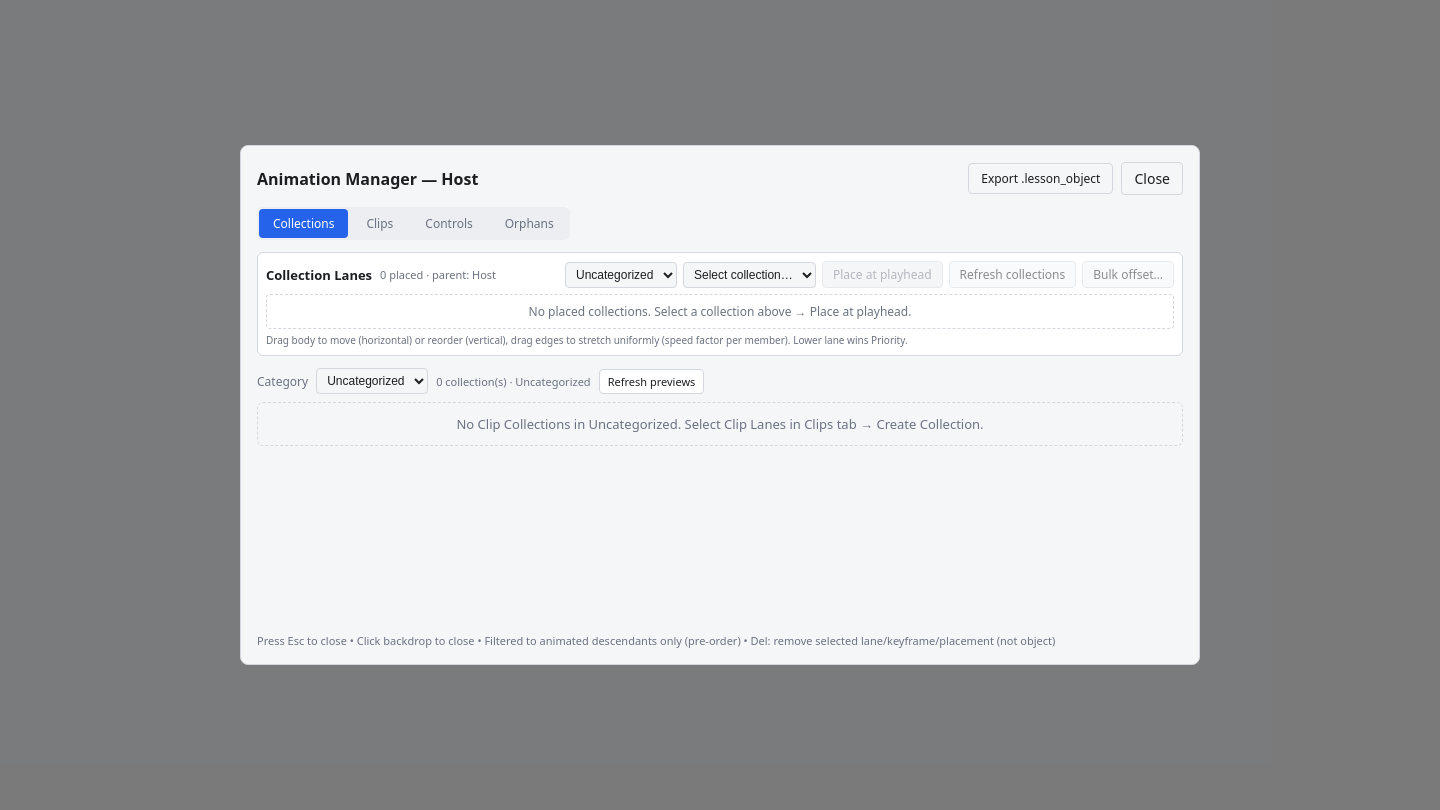
Test case: Clip Blocks Authoring UI — per-timeline lanes, drill-in geometry & Priority drag › Drill-in Clip Blocks render at left=start*pps width=(end-start)*pps and support drag move (preserve width) and edge resize (span≥1e-6 guard, overlap allowed)
Step 1. Click the tab with test id "manager-tab-controls" → [449, 224], box top-left (411, 209), bottom-right (487, 238)
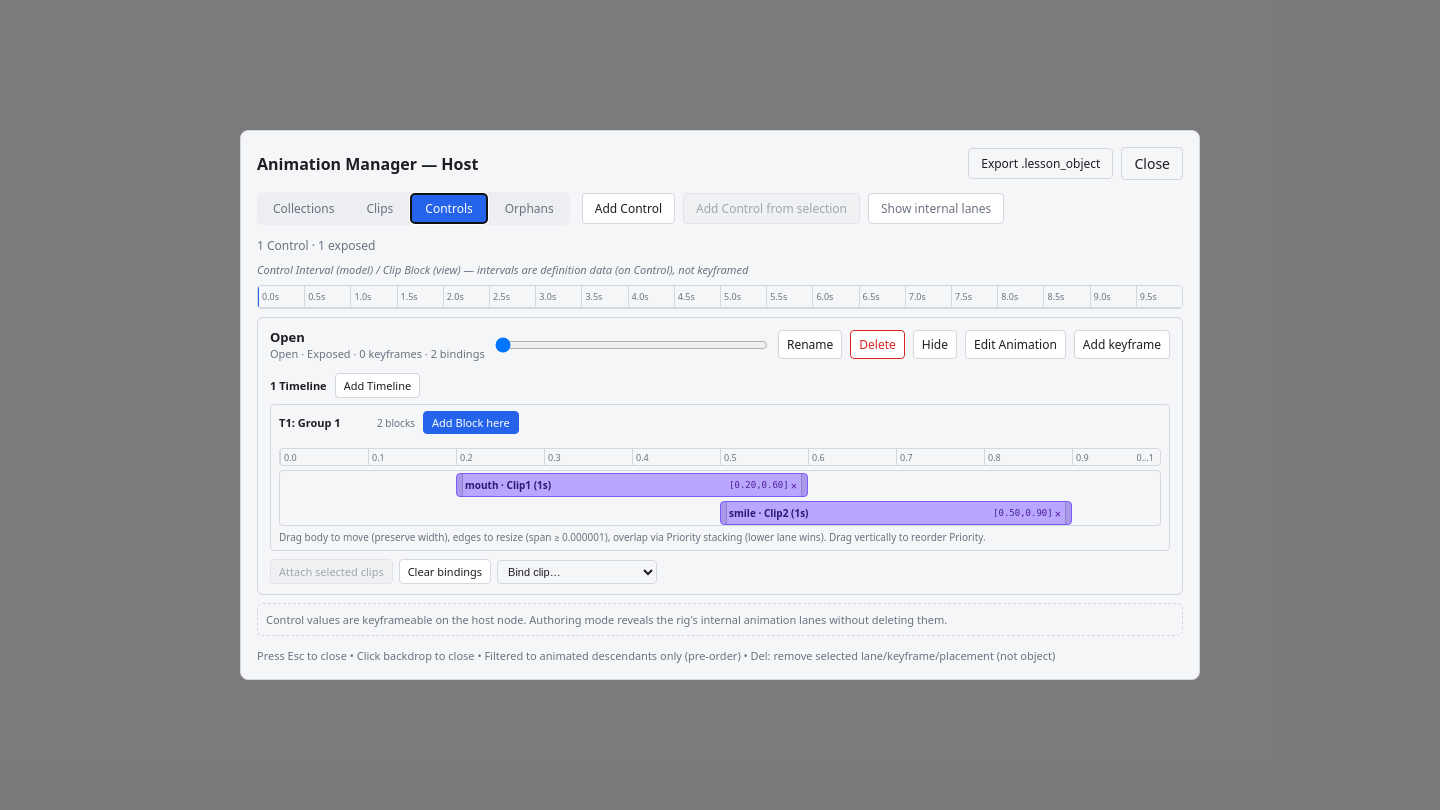
Open drill-in
Step 2. Click the button with test id "manager-control-edit-Open" → [1015, 344], box top-left (965, 330), bottom-right (1066, 359)
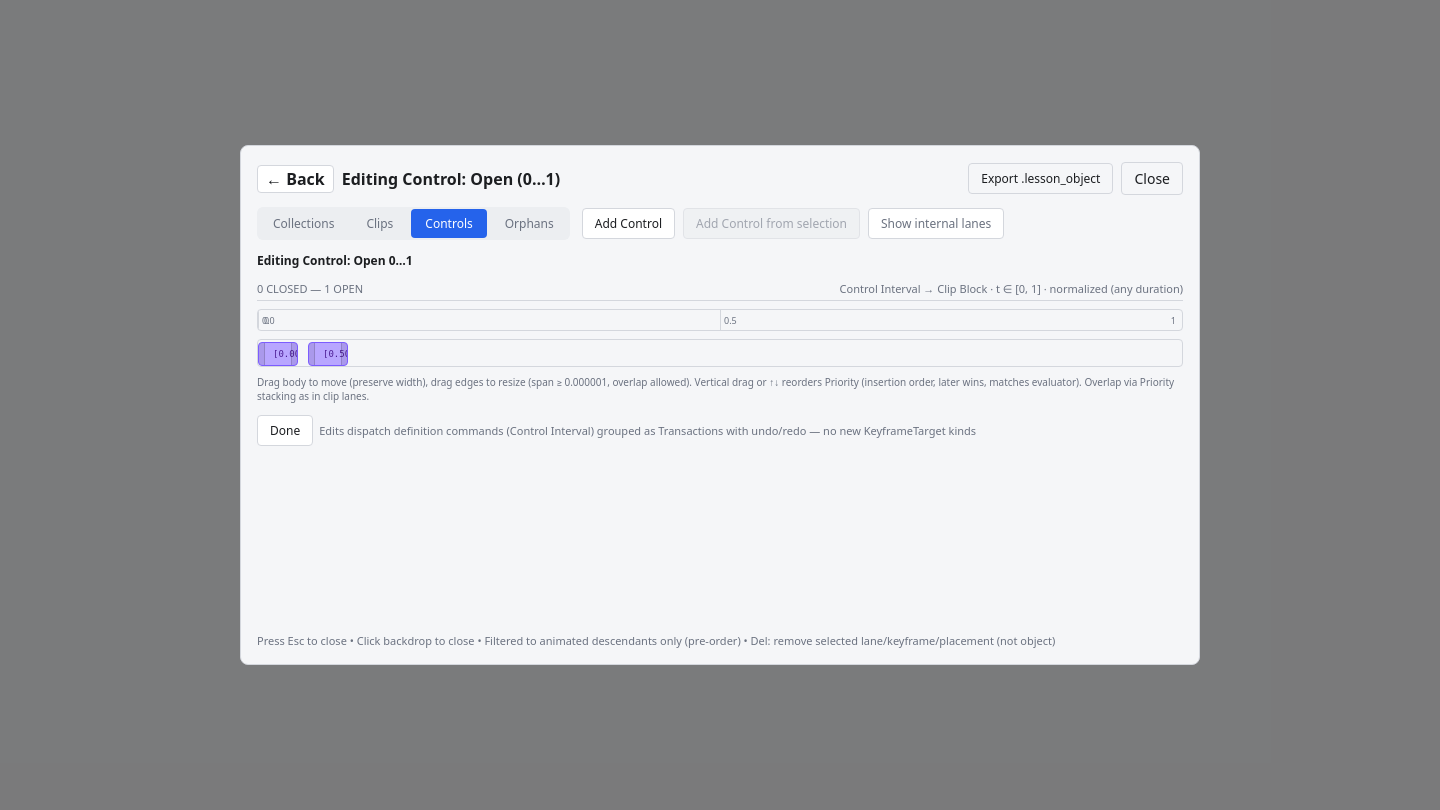
Result: the element with test id "control-interval-ruler" is shown at top-left (257, 309), bottom-right (1183, 331)
Result: the element with test id "control-interval-lane" is shown at top-left (257, 339), bottom-right (1183, 367)
Result: the element with test id "clip-block-Open-mouth-0" is shown at top-left (258, 342), bottom-right (298, 366)
